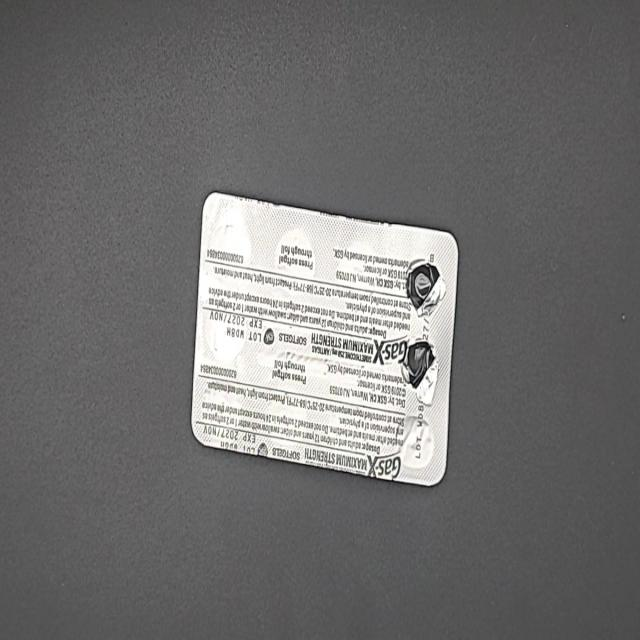defect: (401, 331, 440, 409), (404, 254, 448, 322)
